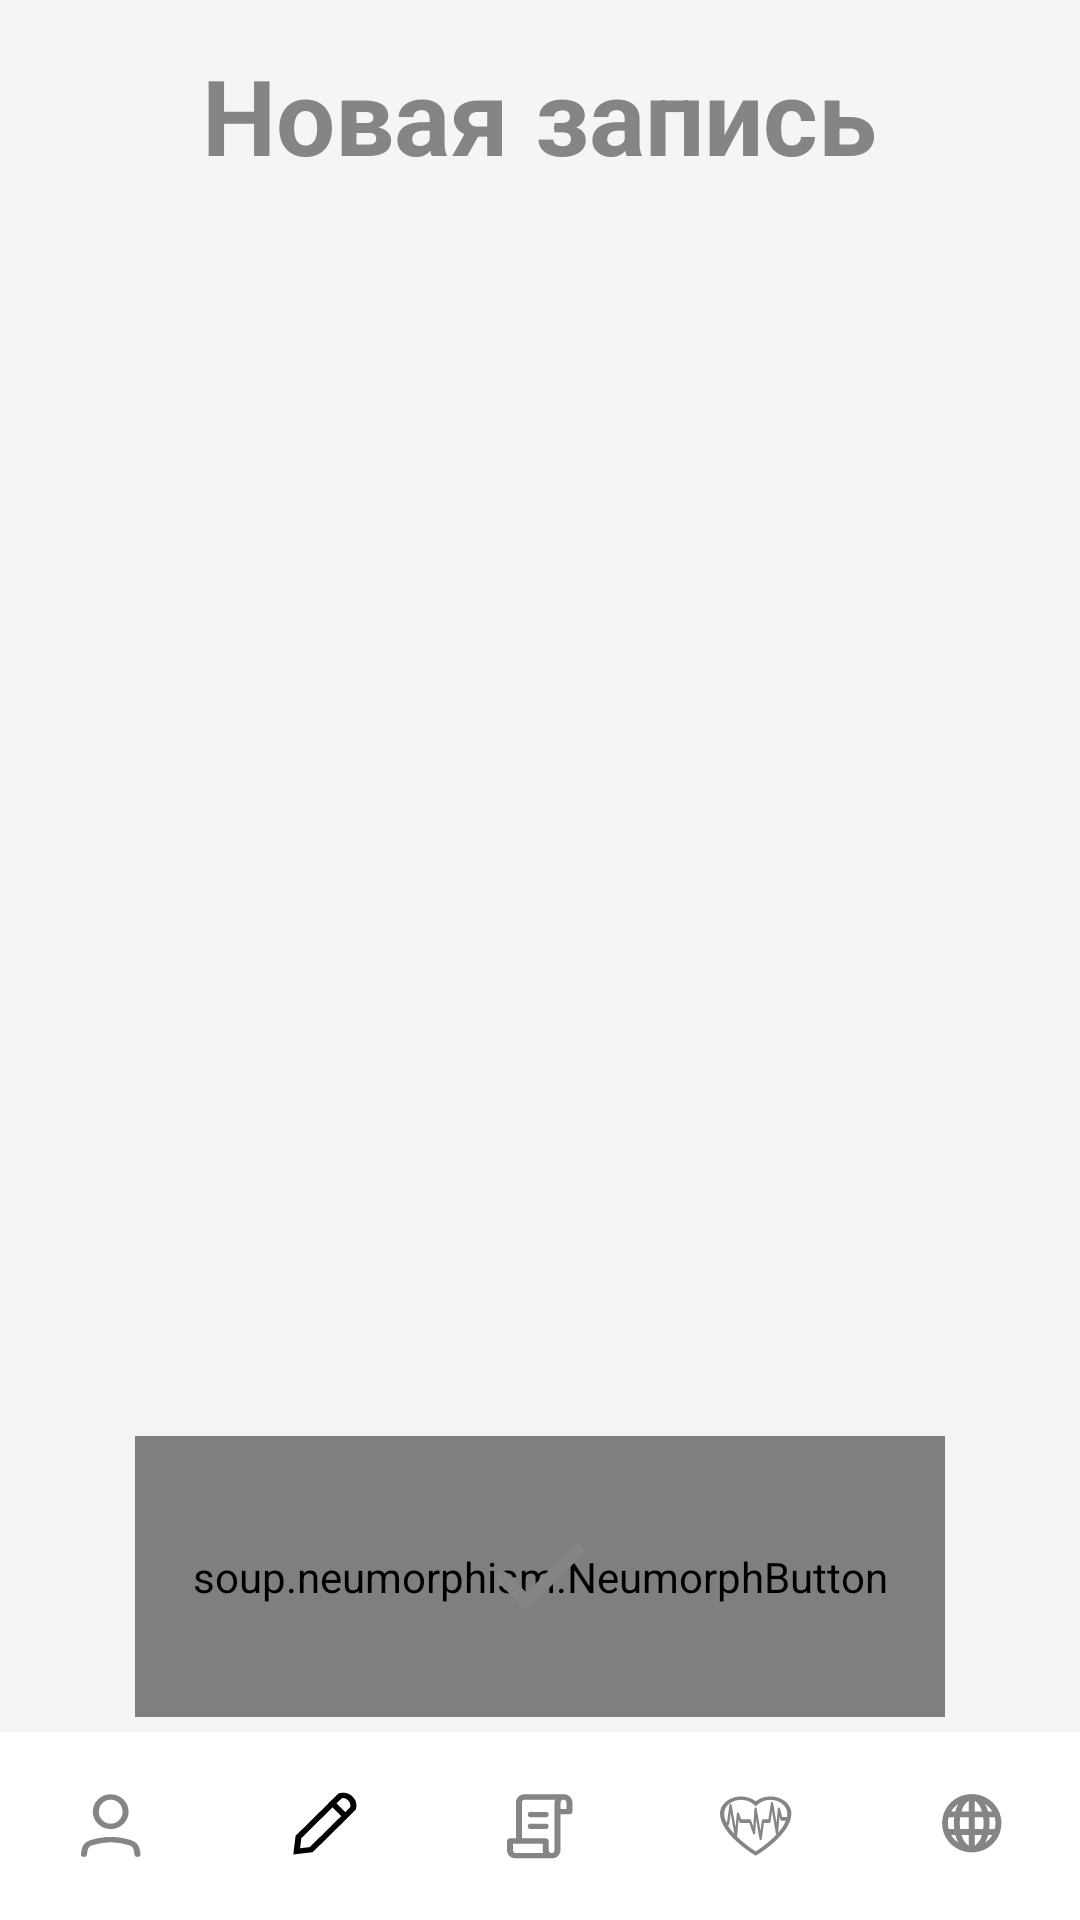

Named icons in this screenshot (1080w x 1920h) and their centers, [x,y]:
edit: [325,1823]
heart: [756,1826]
profile: [111,1825]
scroll: [540,1826]
